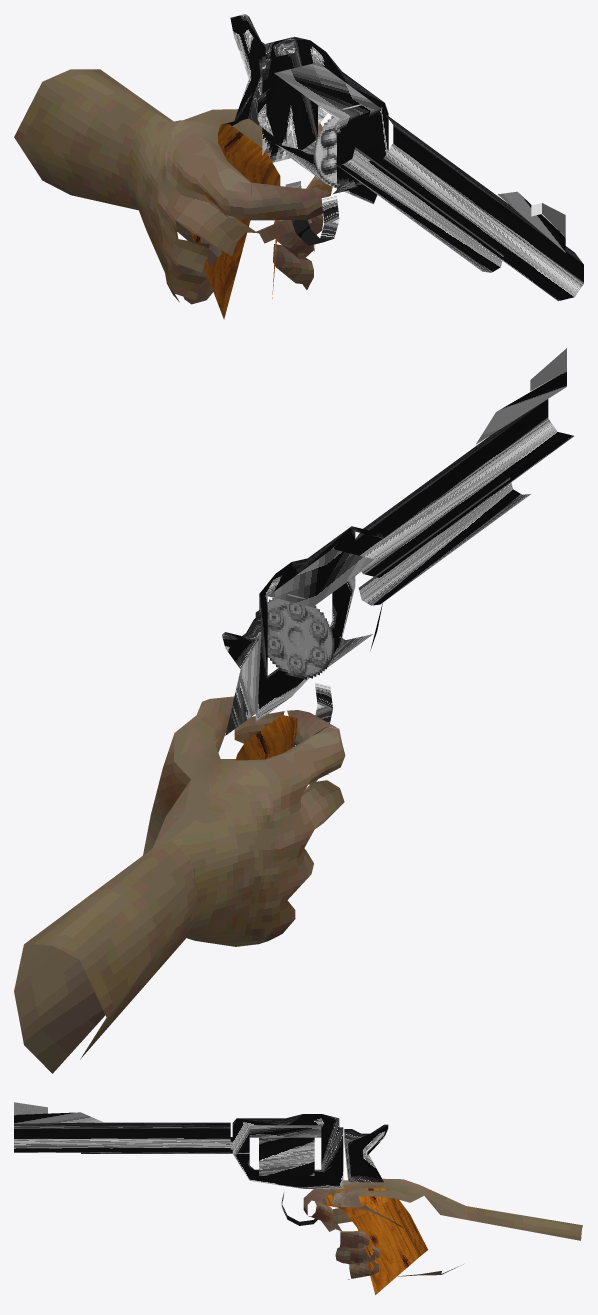
Rendered from gun.glb.
The picture shows the model from 3 angles, top to bottom: view 1: azimuth 30°, elevation 25°; view 2: azimuth 150°, elevation 25°; view 3: azimuth 270°, elevation 25°; orthographic projection. The views are drawn at different scales.
Visible parts, largest first — view 1: m4EnvMappingTexScaleS0.062501TexScaleT0.062501, m14ClampSClampT, m5ClampSClampT, m6ClampSClampT, m11, m8ClampSClampT, m12ClampSClampT, m10, m7CullBothEnvMappingTexScaleS0.062501TexScaleT0.062501, m13ClampSClampT; view 2: m4EnvMappingTexScaleS0.062501TexScaleT0.062501, m5ClampSClampT, m14ClampSClampT, m8ClampSClampT, m12ClampSClampT, m9, m13ClampSClampT, m11, m6ClampSClampT; view 3: m4EnvMappingTexScaleS0.062501TexScaleT0.062501, m11, m14ClampSClampT, m8ClampSClampT, m12ClampSClampT, m6ClampSClampT, m5ClampSClampT.
Part boxes in pixels (x1,y1,x2,y2): m4EnvMappingTexScaleS0.062501TexScaleT0.062501: (223, 14, 583, 301); m14ClampSClampT: (14, 69, 173, 210); m5ClampSClampT: (128, 114, 255, 302); m6ClampSClampT: (221, 123, 326, 251); m11: (190, 124, 280, 319); m8ClampSClampT: (273, 176, 332, 289); m12ClampSClampT: (160, 109, 262, 147); m10: (313, 104, 361, 187); m7CullBothEnvMappingTexScaleS0.062501TexScaleT0.062501: (285, 181, 339, 245); m13ClampSClampT: (175, 220, 221, 304); m4EnvMappingTexScaleS0.062501TexScaleT0.062501: (222, 348, 573, 735); m5ClampSClampT: (172, 732, 345, 946); m14ClampSClampT: (24, 839, 197, 1059); m8ClampSClampT: (14, 711, 284, 1073); m12ClampSClampT: (153, 699, 263, 847); m9: (267, 593, 334, 679); m13ClampSClampT: (143, 734, 190, 855); m11: (214, 715, 297, 760); m6ClampSClampT: (211, 696, 344, 784); m4EnvMappingTexScaleS0.062501TexScaleT0.062501: (14, 1102, 388, 1188); m11: (326, 1188, 427, 1294); m14ClampSClampT: (465, 1206, 582, 1240); m8ClampSClampT: (308, 1200, 379, 1279); m12ClampSClampT: (358, 1179, 466, 1219); m6ClampSClampT: (303, 1186, 361, 1263); m5ClampSClampT: (332, 1178, 464, 1223).
Bounding box in the file's own units: 84 × 218 × 571.
Materials: 11 (11 with a texture image).
